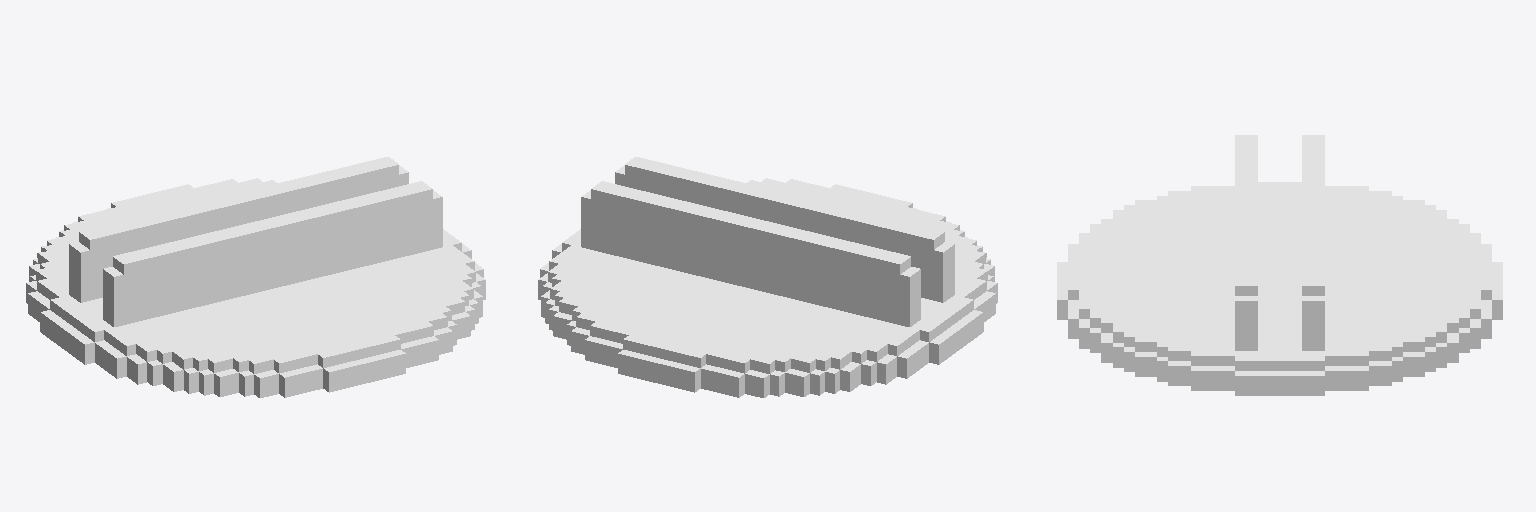
File: support.obj
3 renders of one model, left to right at view 1: azimuth 30°, elevation 25°; view 2: azimuth 150°, elevation 25°; view 3: azimuth 270°, elevation 25°, orthographic.
Visible parts, largest first — view 1: object 1; view 2: object 1; view 3: object 1.
Part boxes in pixels (x1,y1,x2,y2): object 1: (26, 157, 485, 397); object 1: (538, 157, 997, 397); object 1: (1057, 135, 1502, 395).
Bounding box in the file's own units: 4 × 0.9 × 4.